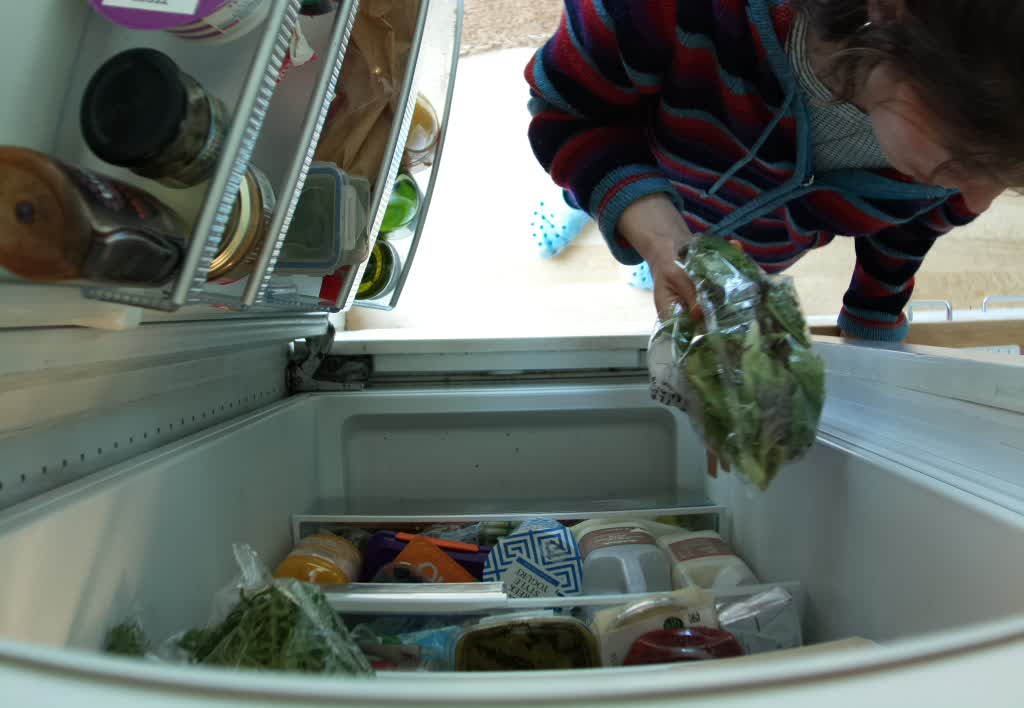salad: (656, 233, 829, 478)
